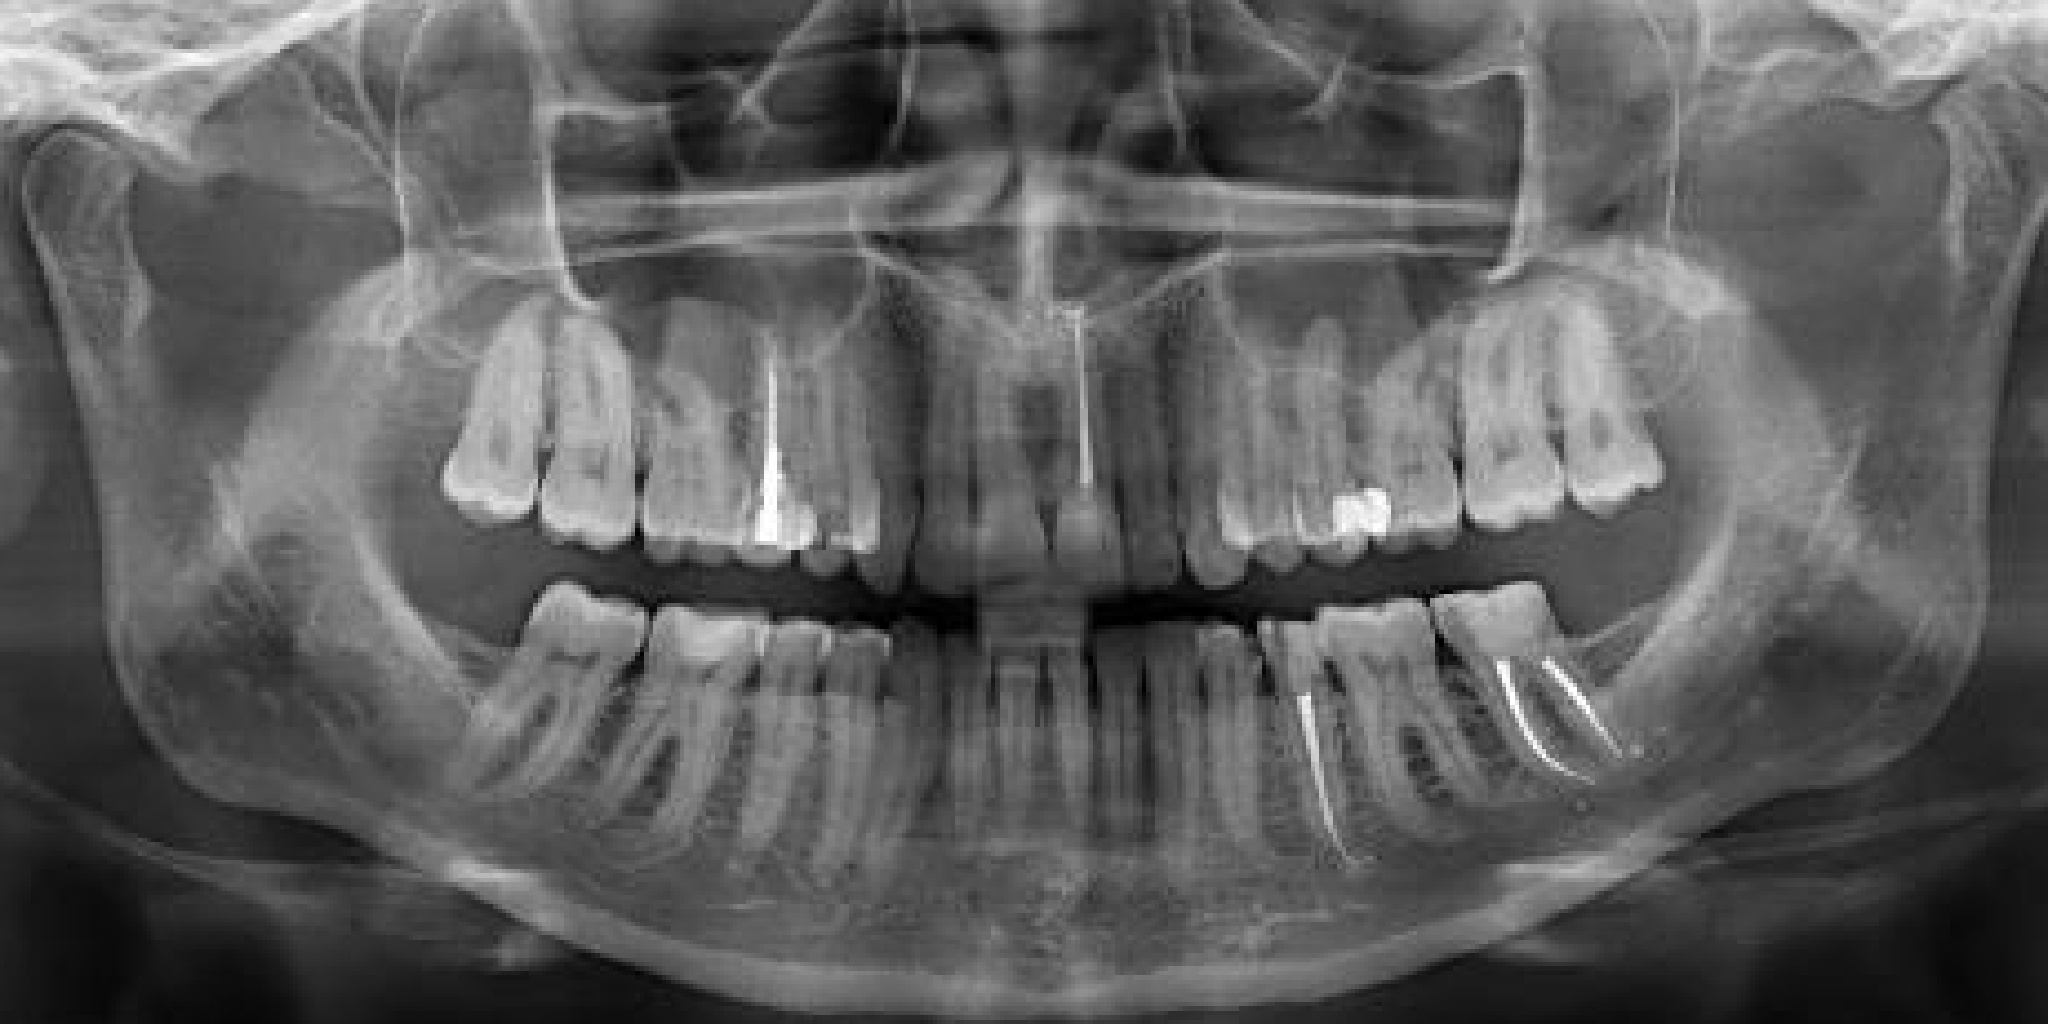Tooth: (330, 496, 724, 938), (475, 515, 854, 961), (1366, 487, 1718, 934), (600, 539, 923, 984), (1258, 525, 1566, 967), (1172, 546, 1475, 986), (743, 560, 1040, 998), (534, 217, 825, 654), (368, 166, 653, 601), (697, 559, 982, 994), (1454, 159, 1733, 592), (1375, 162, 1654, 596), (449, 188, 716, 616), (872, 236, 1127, 661), (1145, 214, 1400, 637), (1017, 230, 1271, 654), (1272, 174, 1526, 598), (747, 197, 1000, 620), (1055, 566, 1302, 986), (1114, 552, 1354, 970), (964, 225, 1198, 641), (1207, 205, 1441, 620), (701, 205, 935, 620), (901, 560, 1128, 973), (825, 230, 1053, 643), (852, 552, 1078, 965), (957, 556, 1179, 967), (1102, 205, 1323, 615), (1010, 555, 1230, 965), (661, 222, 882, 632)
